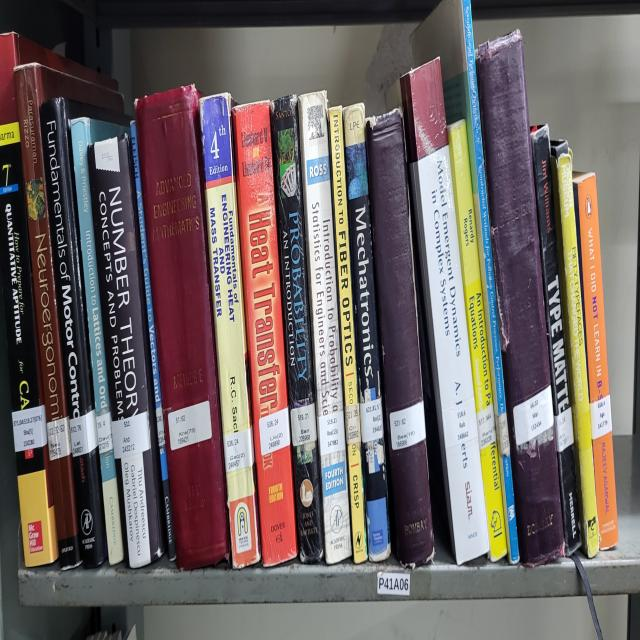Book: (411, 0, 519, 563), (0, 32, 110, 565), (15, 62, 122, 568), (396, 57, 490, 565), (476, 32, 565, 565), (135, 87, 230, 568), (88, 135, 165, 568), (40, 97, 110, 568), (234, 103, 298, 565), (199, 92, 260, 568), (449, 119, 508, 560), (270, 95, 324, 563), (70, 116, 126, 565), (299, 92, 351, 563), (342, 103, 390, 563), (531, 124, 581, 555), (130, 122, 176, 560), (329, 106, 368, 563), (572, 173, 619, 549), (365, 108, 422, 414)
Label: (514, 384, 554, 446), (168, 400, 211, 449), (111, 411, 150, 460), (442, 398, 478, 449), (390, 400, 426, 449), (12, 406, 48, 452), (259, 406, 290, 457), (224, 427, 254, 473), (70, 409, 98, 457), (318, 411, 345, 457), (290, 403, 316, 446), (360, 398, 384, 444), (46, 417, 71, 460), (590, 395, 612, 438), (554, 406, 574, 452), (476, 406, 496, 449), (96, 411, 112, 455), (495, 411, 510, 457), (345, 403, 361, 444), (156, 406, 165, 446)
